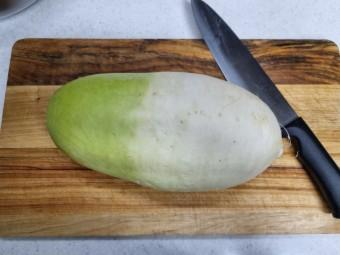radish: (21, 27, 155, 78)
